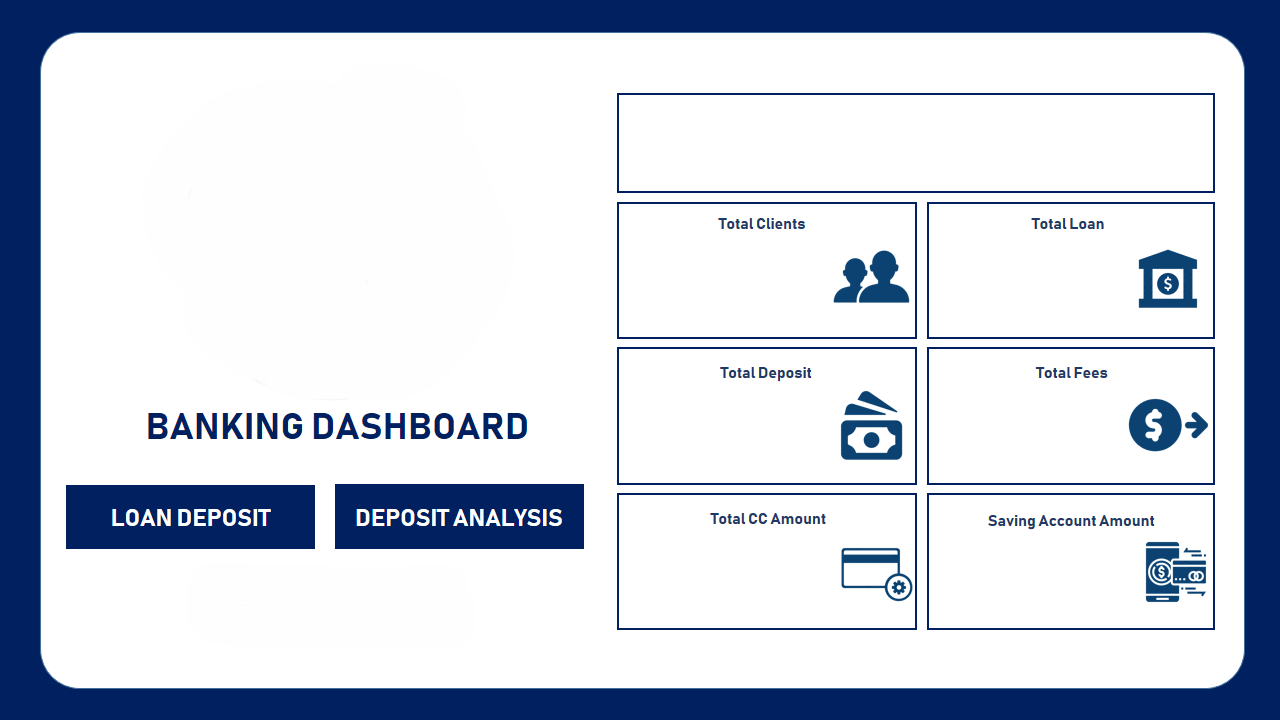

This screenshot's page, from the dashboard's own definition file:
{"tool":"powerbi","page":{"name":"Home","canvas":[1280,720],"ordinal":0},"visuals":[{"type":"image","box":[152,98.9,366.8,295.6],"z":0},{"type":"card","fields":{"Values":["CountNonNull(banking_case customer.Name)"]},"box":[698.3,234.1,117.7,83.7],"z":1000},{"type":"slicer","fields":{"Values":["banking_case customer.Gender"]},"box":[619.9,99.4,587.2,82.4],"z":2000},{"type":"card","fields":{"Values":["banking_case customer.Total Loan"]},"box":[991.3,226.2,132.1,99.4],"z":3000},{"type":"card","fields":{"Values":["banking_case customer.Total Deposit"]},"box":[694.4,377.9,136,85],"z":4000},{"type":"slicer","fields":{"Values":["banking_customer.Joined Bank.Variation.Date Hierarchy.Year"]},"box":[69.3,26.2,1137.7,49.7],"z":5000},{"type":"card","fields":{"Values":["Sum(banking_customer.Saving Accounts)"]},"box":[681.3,527,153,83.7],"z":6000},{"type":"card","fields":{"Values":["Sum(banking_customer.Business Lending)"]},"box":[982.1,527,145.2,83.7],"z":7000},{"type":"card","fields":{"Values":["Sum(banking_customer.Checking Accounts)"]},"box":[971.6,377.9,164.8,83.7],"z":8000},{"type":"actionButton","box":[139.9,495.6,99.4,40.5],"z":9000},{"type":"actionButton","box":[410.6,495.6,99.4,40.5],"z":10000}]}

Visuals, with their boxes in screenshot pixels (x1, y1, x2, y2), scaled from the page's 1280x720 canvas onto the 1280x720 screenshot:
image: l=152, t=99, r=519, b=394
card - CountNonNull(banking_case customer.Name): l=698, t=234, r=816, b=318
slicer - banking_case customer.Gender: l=620, t=99, r=1207, b=182
card - banking_case customer.Total Loan: l=991, t=226, r=1123, b=326
card - banking_case customer.Total Deposit: l=694, t=378, r=830, b=463
slicer - banking_customer.Joined Bank.Variation.Date Hierarchy.Year: l=69, t=26, r=1207, b=76
card - Sum(banking_customer.Saving Accounts): l=681, t=527, r=834, b=611
card - Sum(banking_customer.Business Lending): l=982, t=527, r=1127, b=611
card - Sum(banking_customer.Checking Accounts): l=972, t=378, r=1136, b=462
actionButton: l=140, t=496, r=239, b=536
actionButton: l=411, t=496, r=510, b=536
